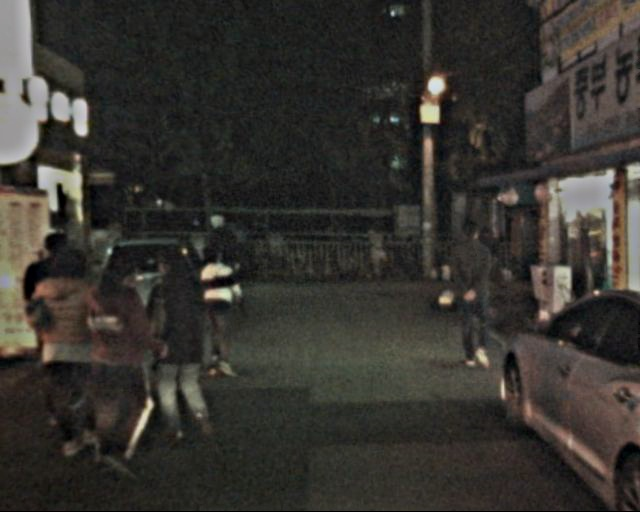person: (78, 240, 166, 479), (27, 236, 106, 451), (141, 237, 221, 442), (449, 212, 506, 372), (190, 238, 248, 380)
